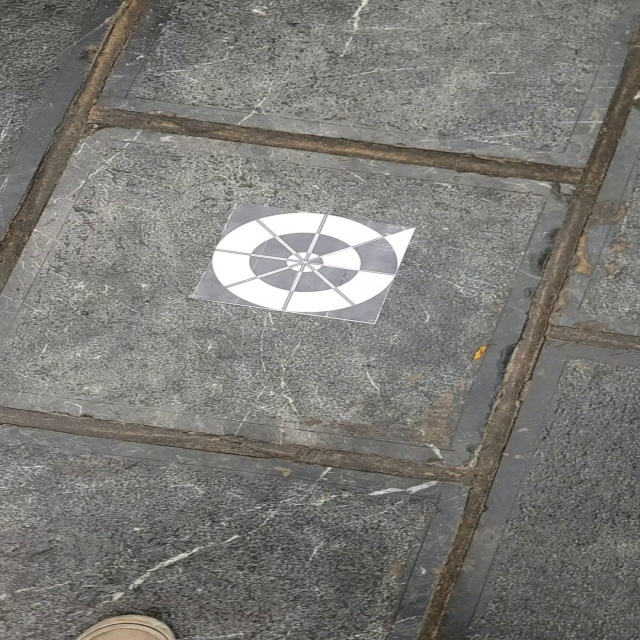landing-zone: (189, 195, 415, 327)
